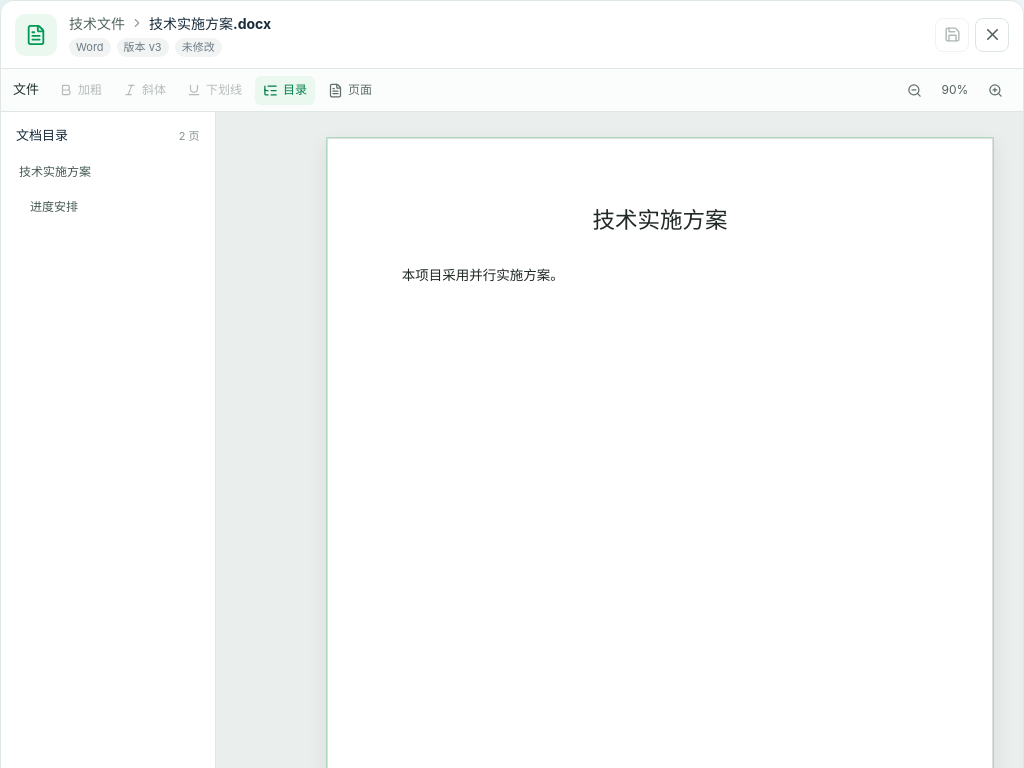
Test: OutcomeFileWorkspace › builds Word outline and pages from backend content and saves an edit
This screenshot has width=1024, height=768.
Expected: the element named "文档导航" shows "技术实施方案", [11,156,205,188]
Expected: the element named "文档导航" shows "进度安排", [22,190,205,222]
Clear the text box named "正文：本项目采用分阶段实施方案。" at [482, 276], box [401,269,563,283]
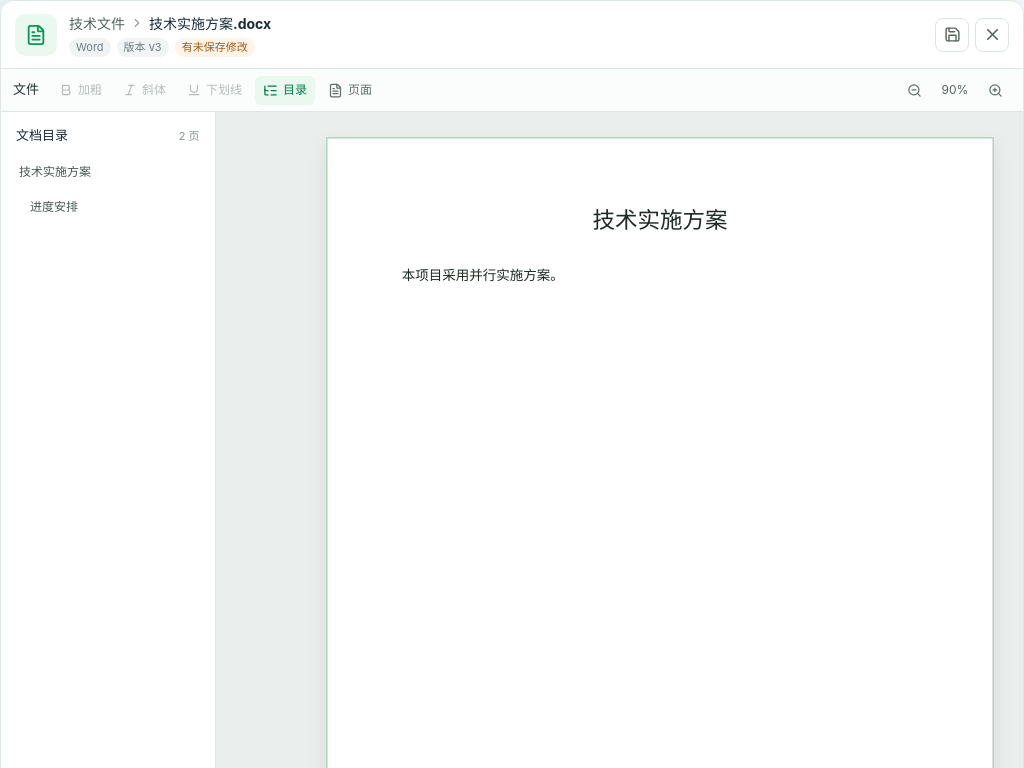
Expected: the message named "文件保存状态" reads "有未保存修改", [182,40,248,54]
Click the button named "保存文件" at [952, 34], box [935,18,969,52]
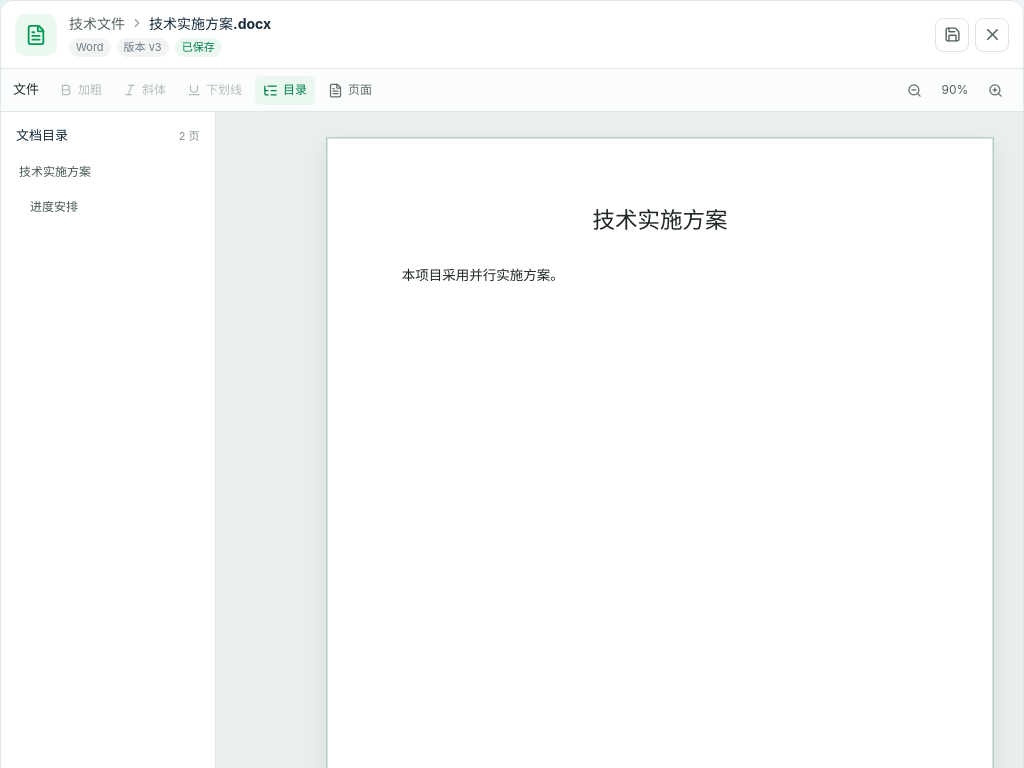
Expected: the message named "文件保存状态" reads "已保存", [182,40,215,54]
